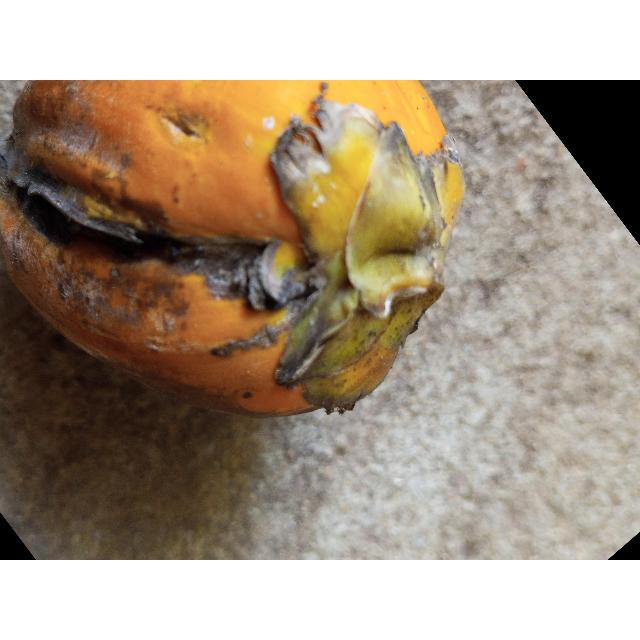damaged: (0, 80, 464, 416)
